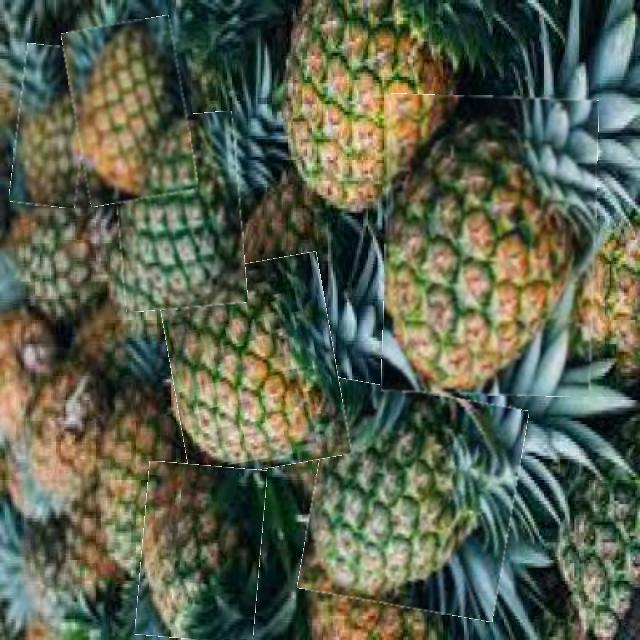Pineapple: (384, 95, 597, 396), (305, 385, 521, 615), (283, 3, 467, 221), (164, 258, 343, 475), (114, 114, 244, 310), (68, 19, 191, 203), (138, 464, 263, 640), (13, 45, 89, 206)
